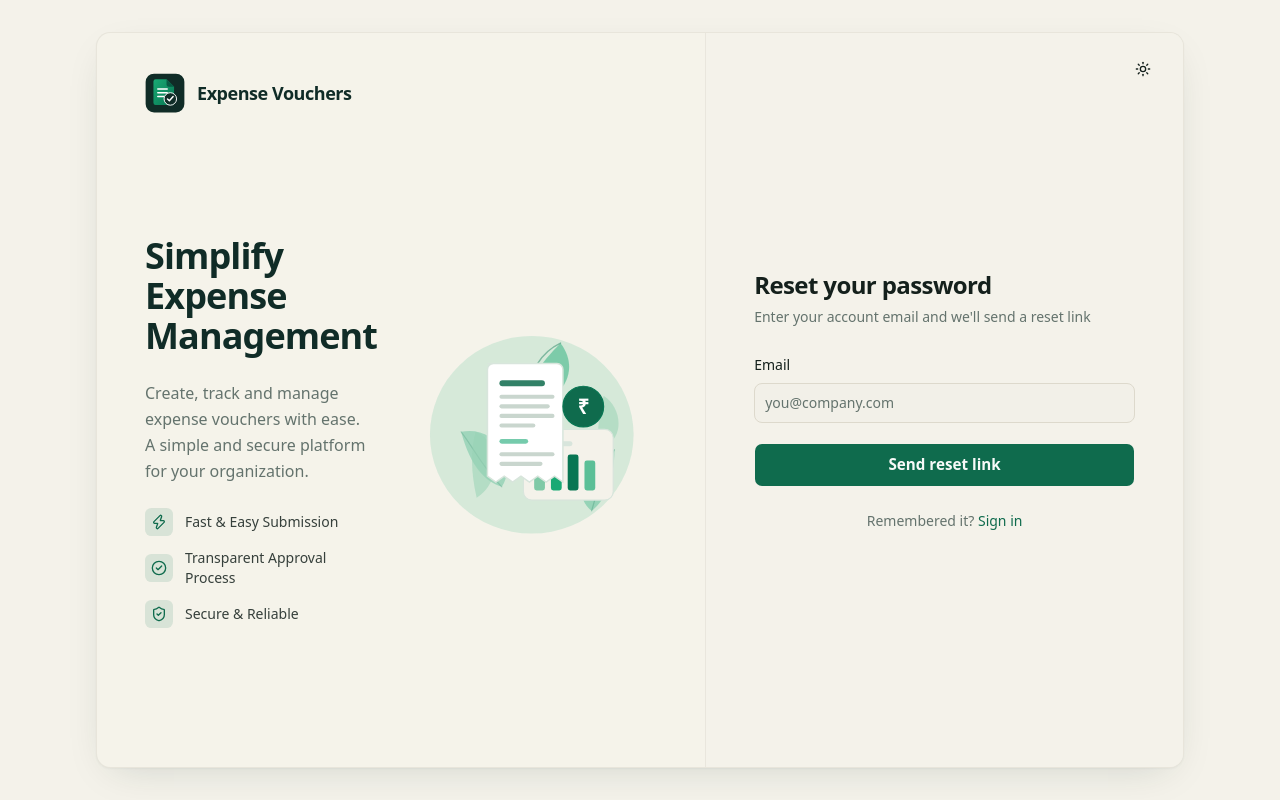
Test: forgot-password page › shows the generic success message after sending
Check: the button "Send reset link" is shown, box [754,443,1135,487]
Type "ada@abc.test" into the field labelled "Email" at (945, 403), box [754,383,1135,423]
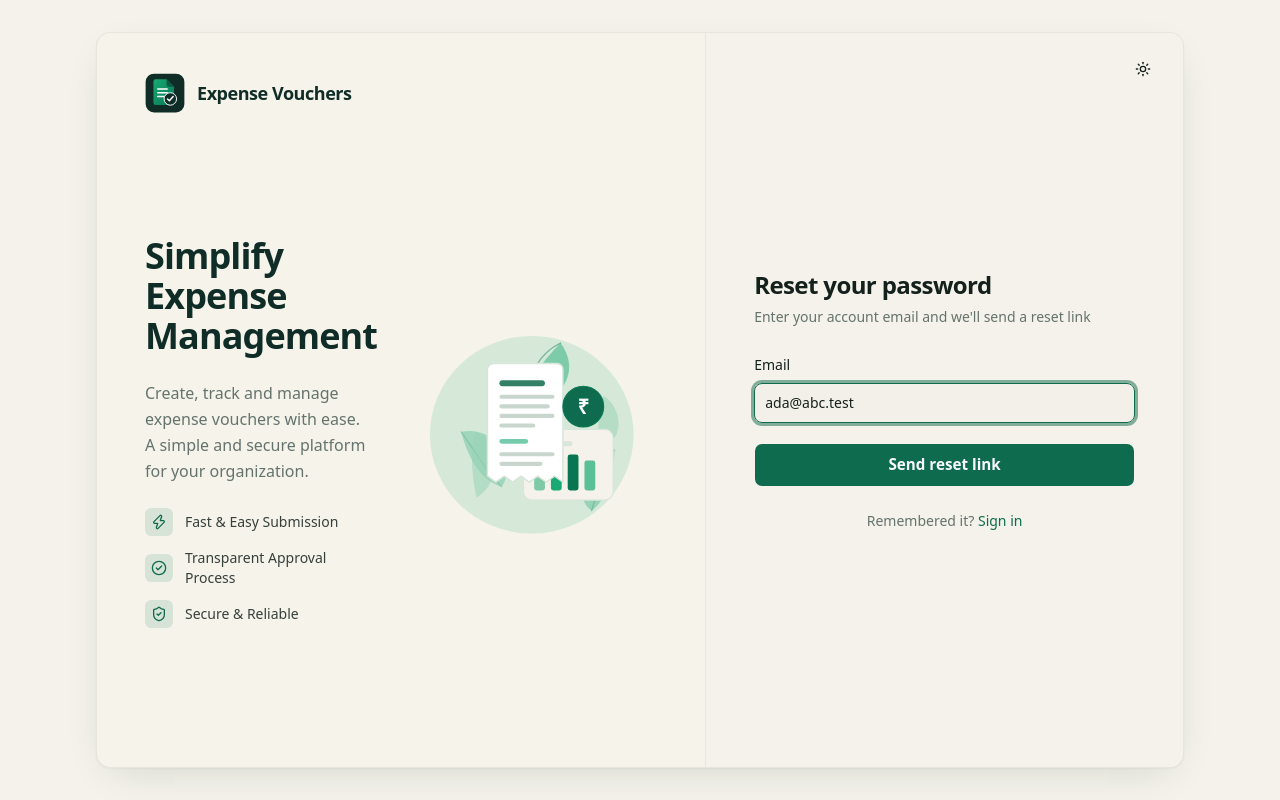
Click the button "Send reset link" at (945, 465), box [754,443,1135,487]
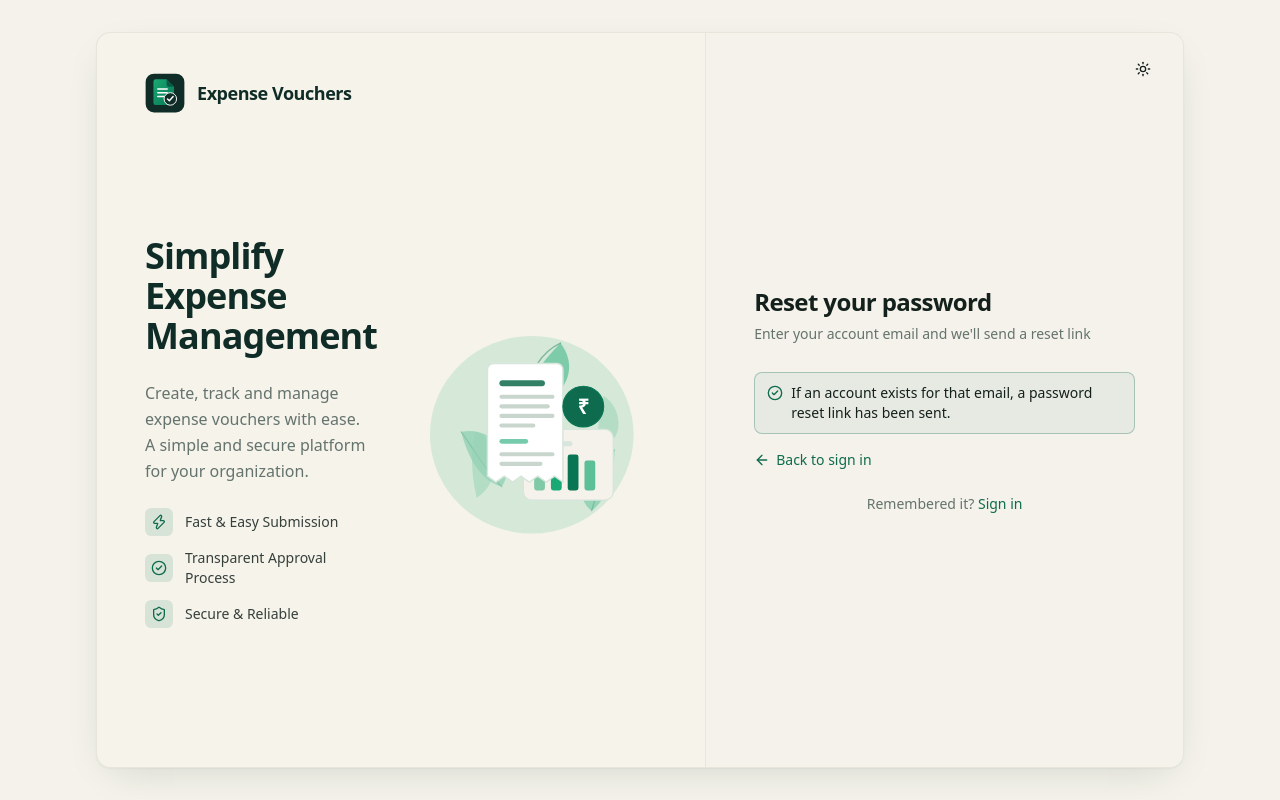
Check: the message shows "If an account exists", box [791,383,1092,422]
Check: the link "Back to sign in" is shown, box [754,450,872,470]
